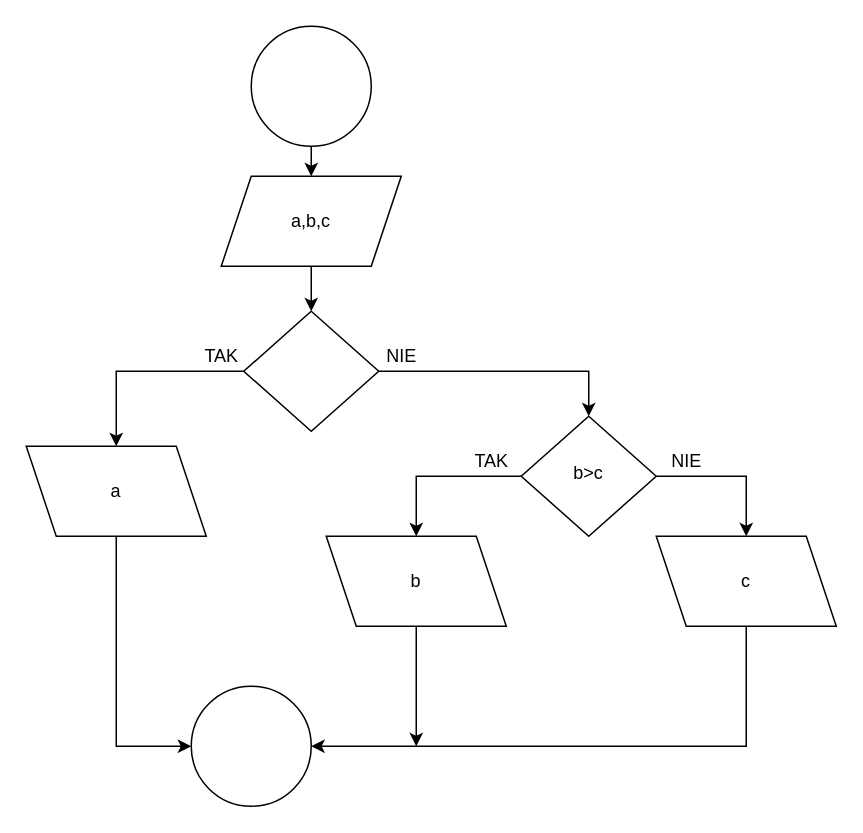
Some shapes in this 863 by 833 pixel diagram are drawn without their labels. The centre of each missing label's shape, as x and y in pixels:
a>b && a>c: point (310, 370)
START: point (310, 85)
STOP: point (250, 745)
